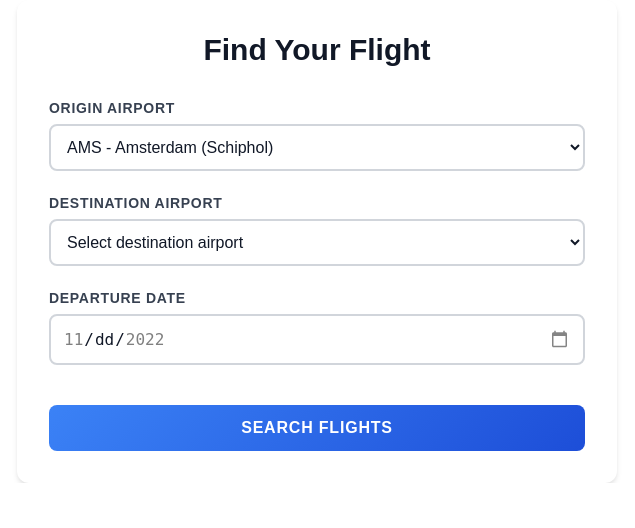
Test: SearchForm Component › Form validation › shows error when date is outside available range
Select "CDG - Paris Charles de Gaulle" in the dropdown labelled "Destination Airport" at (317, 242), box [49,219,585,266]
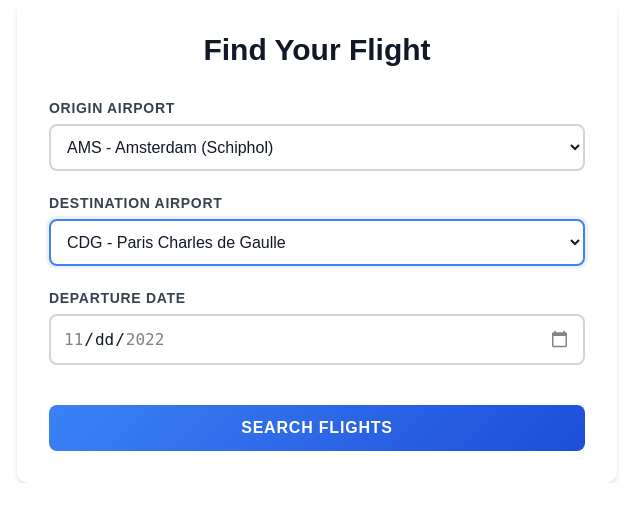
Type "2022-12-01" into the date field labelled "Departure Date".
click(317, 340); type("2022-12-01")  # box [49,314,585,365]
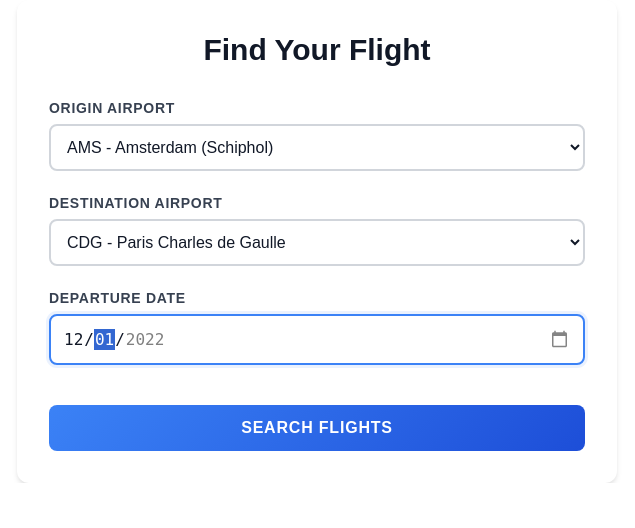
Click the button "Search Flights".
click(317, 428)  # box [49,405,585,451]
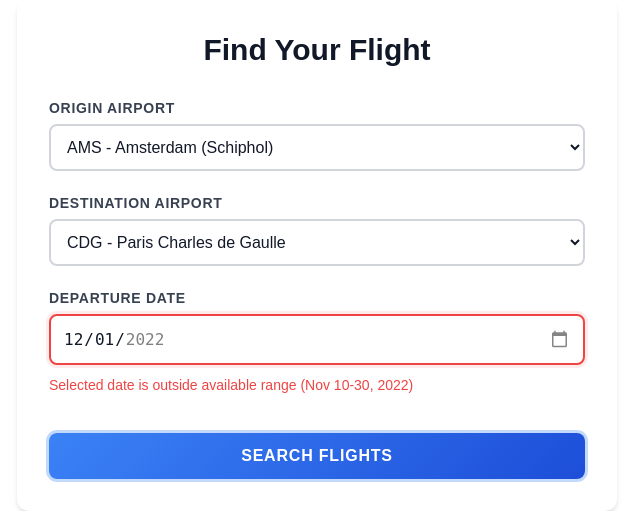
Expected: the text "Selected date is outside available range (Nov 10-30, 2022)" is shown, [49,377,413,393]
